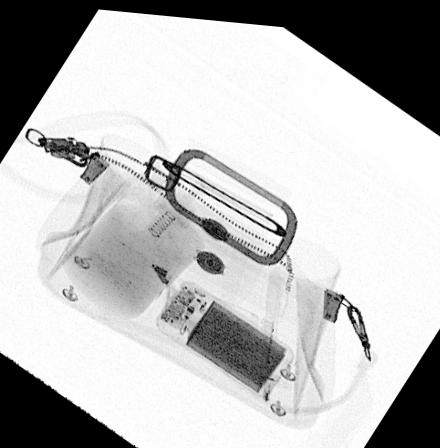Powerbank: (153, 276, 297, 394)
